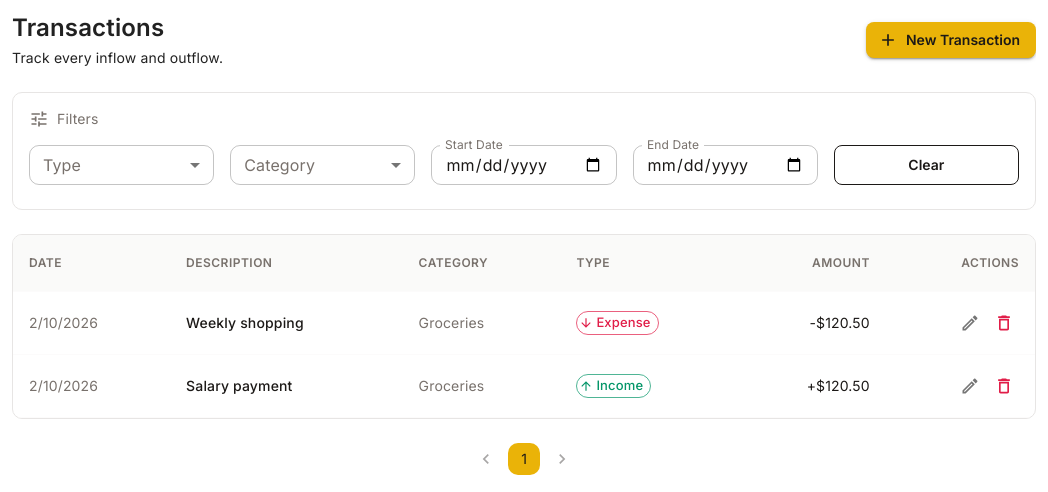
Scenario: Transactions page › deletes the transaction once confirmed and refreshes the list
Step 1. Click the 4th button → (1004, 323), box 989,308 -> 1019,338
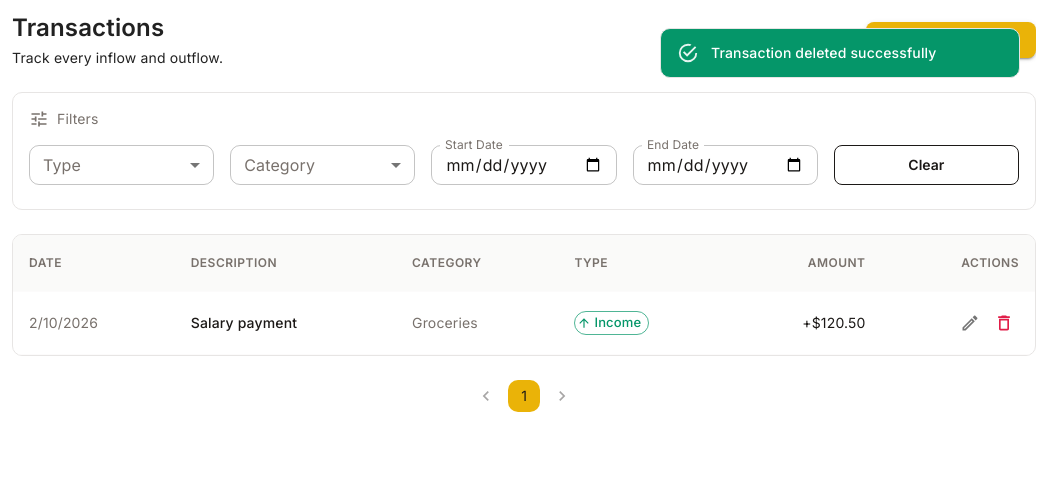
Expected: the text "Salary payment" is shown, 175,292 -> 396,354
Result: the text "Weekly shopping" is gone
